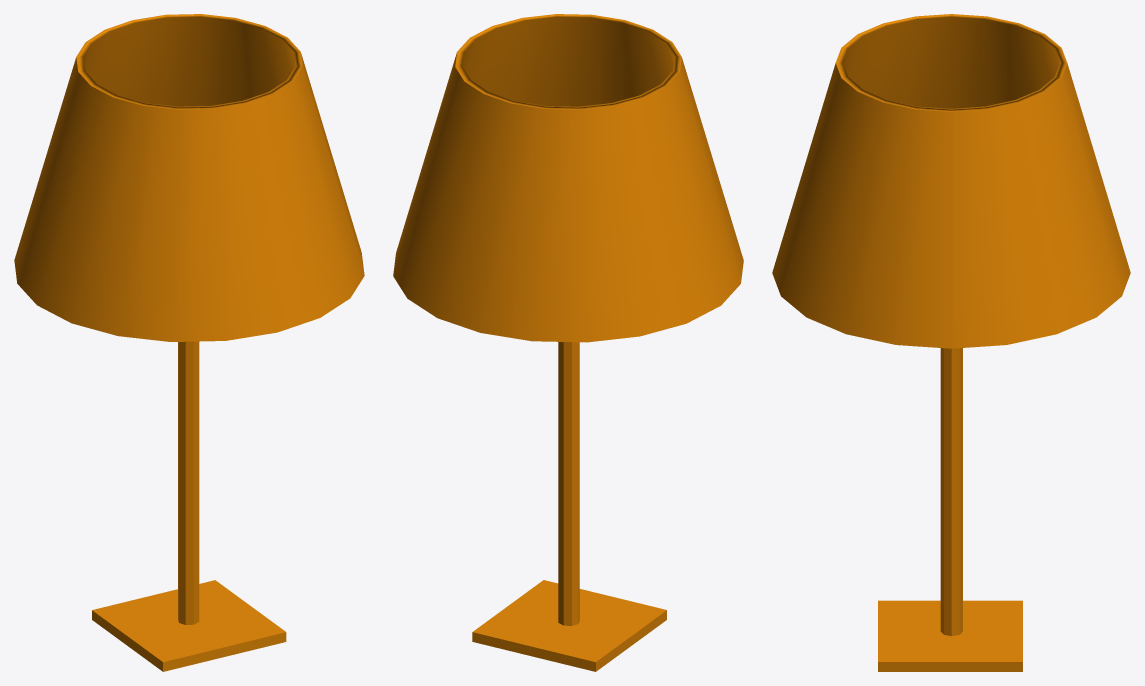
The model's file is Lamp_02.fbx.
3 renders of one model, left to right at view 1: azimuth 30°, elevation 25°; view 2: azimuth 150°, elevation 25°; view 3: azimuth 270°, elevation 25°, orthographic.
Visible parts, largest first — view 1: Lamp_02; view 2: Lamp_02; view 3: Lamp_02.
Part boxes in pixels (left/top/right/bottom): Lamp_02: left=14, top=14, right=364, bottom=671; Lamp_02: left=393, top=14, right=743, bottom=671; Lamp_02: left=772, top=14, right=1130, bottom=671.
Bounding box in the file's own units: 191 × 340 × 191.
